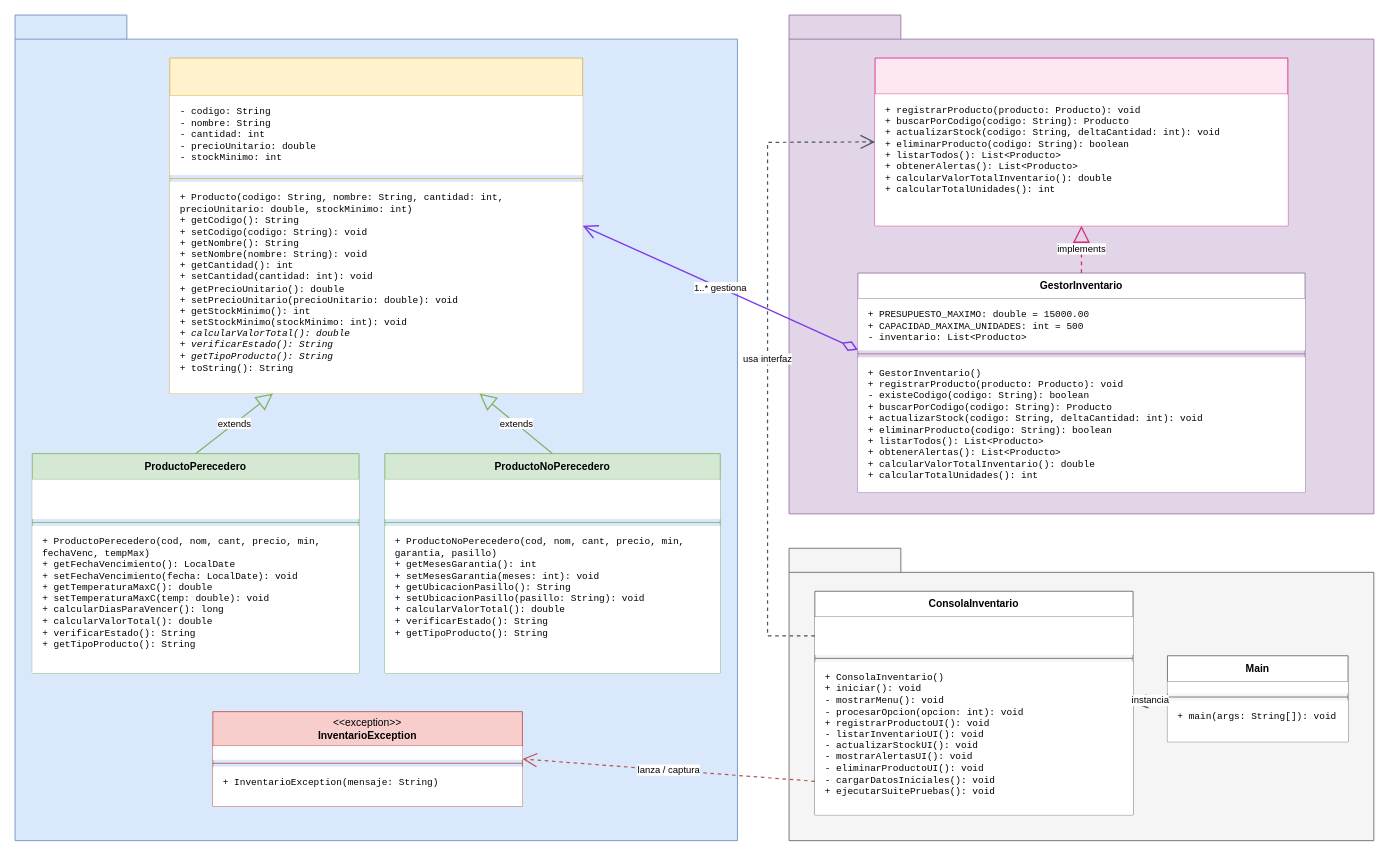
Some shapes in this 1389 by 856 pixel diagram are drawn without their labels. The shapes that lost their labels are listed below. From the top down, each one's box as (x1, y1, x2, y2) in pixels, then its label:
(874, 57, 1288, 226): <<interface>> IGestorInventario
(169, 57, 583, 393): <<abstract>> Producto
(788, 14, 1374, 514): package negocio
(14, 14, 737, 841): package modelo
(32, 479, 359, 519): - fechaVencimiento: LocalDate - temperaturaMaxC: double
(384, 479, 720, 519): - mesesGarantia: int - ubicacionPasillo: String
(814, 617, 1133, 654): - gestor: IGestorInventario - scanner: Scanner
(788, 547, 1374, 841): package interfaz
